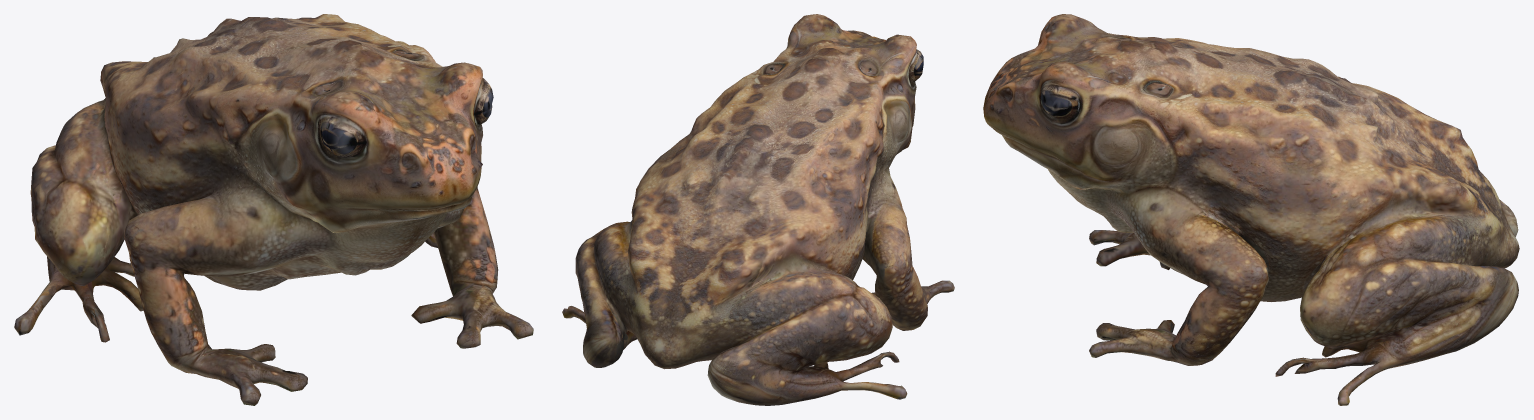
File: fowler-toad.glb
The picture shows the model from 3 angles, left to right: view 1: azimuth 30°, elevation 25°; view 2: azimuth 150°, elevation 25°; view 3: azimuth 270°, elevation 25°; orthographic projection. The views are drawn at different scales.
Bounding box in the file's own units: 1.67 × 1.13 × 2.
Materials: 1 (1 with a texture image).
